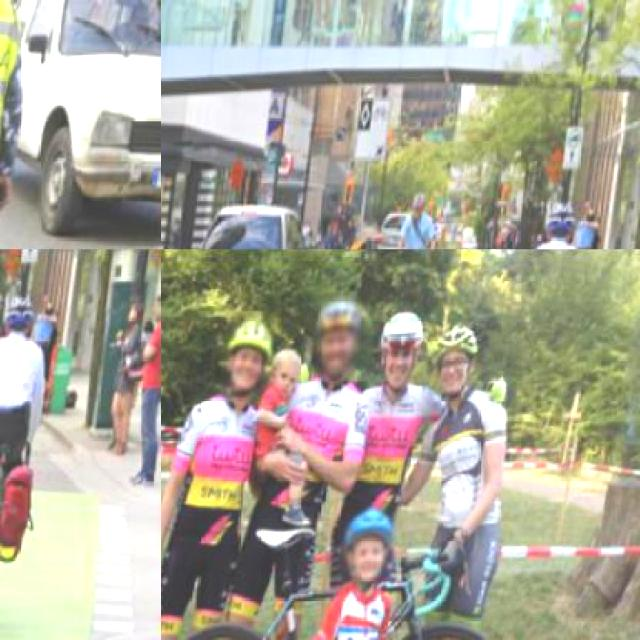With Helmet: (343, 502, 411, 587), (222, 311, 283, 403), (375, 307, 434, 399), (313, 295, 370, 383), (433, 323, 492, 399), (546, 201, 586, 242), (4, 295, 44, 336), (409, 188, 436, 224)
